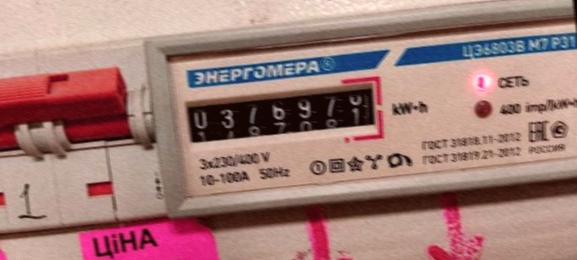0: (189, 105, 205, 129)
1: (347, 104, 360, 125)
3: (217, 106, 233, 128)
6: (267, 95, 285, 120)
7: (241, 99, 259, 125), (319, 92, 337, 116)
9: (293, 94, 310, 118)
screen: (172, 63, 389, 164)
